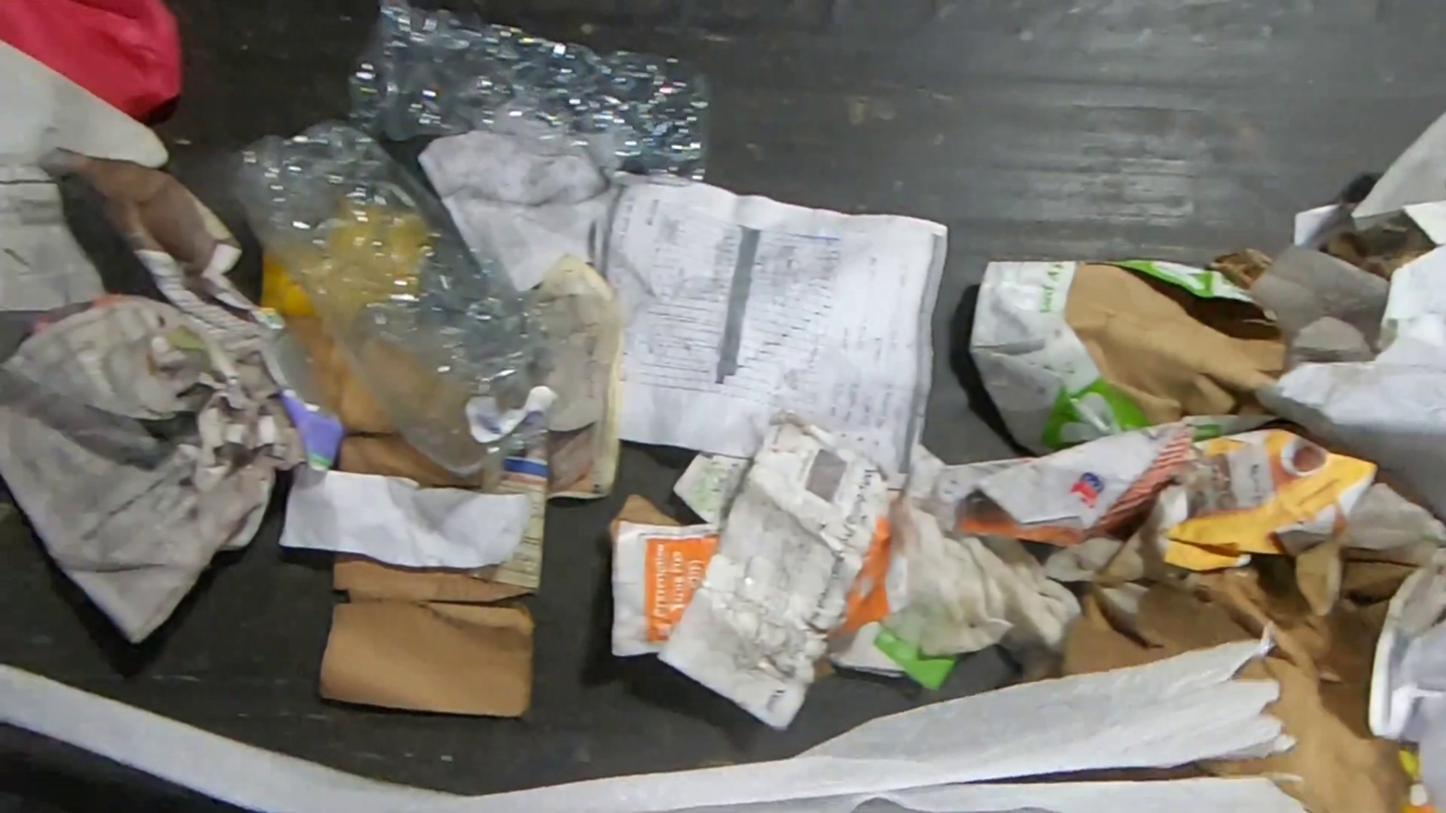cardboard: (1011, 537, 1423, 813), (965, 246, 1294, 458), (315, 436, 549, 720), (602, 492, 685, 542)
plastic: (231, 117, 565, 481), (344, 0, 715, 188)
